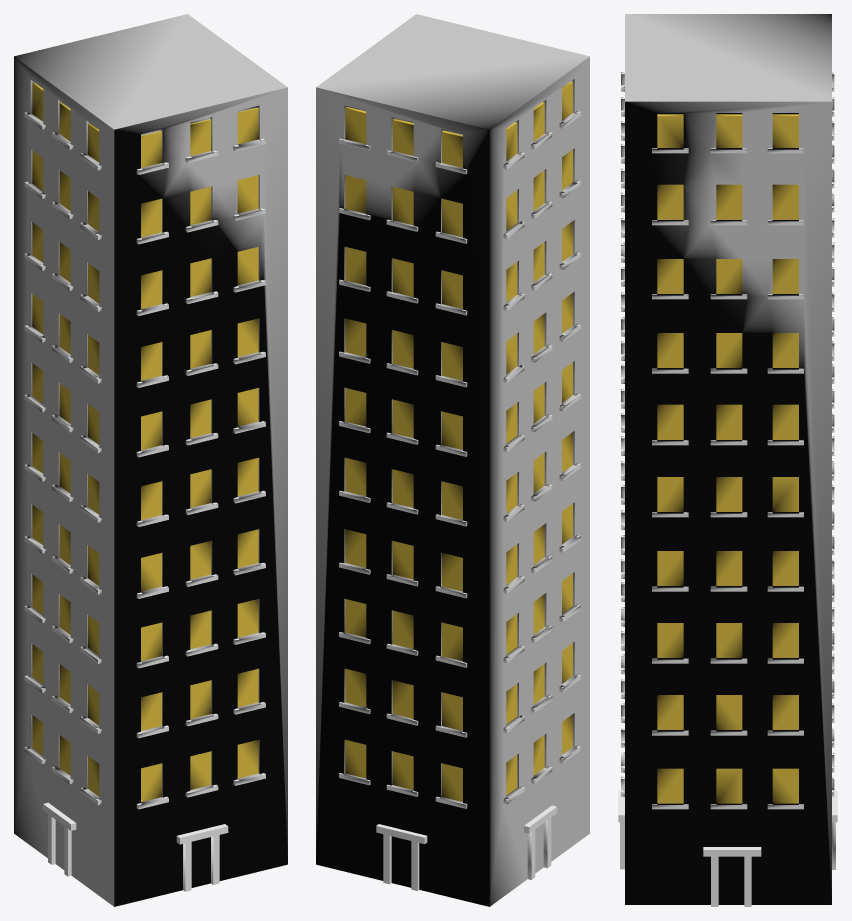
The model's file is Skyscraper.FBX.
3 renders of one model, left to right at view 1: azimuth 30°, elevation 25°; view 2: azimuth 150°, elevation 25°; view 3: azimuth 270°, elevation 25°, orthographic. The views are drawn at different scales.
Parts seen in each view (by area): view 1: Skyscraper; view 2: Skyscraper; view 3: Skyscraper.
Part boxes in pixels (<box>): Skyscraper: <box>14,14,287,906</box>; Skyscraper: <box>316,14,589,906</box>; Skyscraper: <box>618,14,837,906</box>.
Bounding box in the file's own units: 445 × 1794 × 443.
